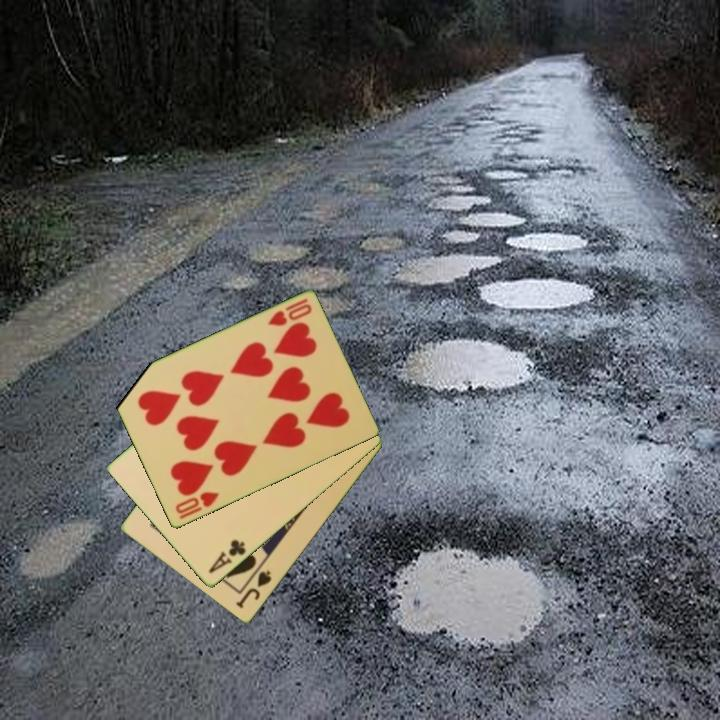10h: (172, 488, 222, 523), (264, 295, 315, 329)
Ac: (205, 536, 249, 577)
Js: (232, 567, 275, 612)
